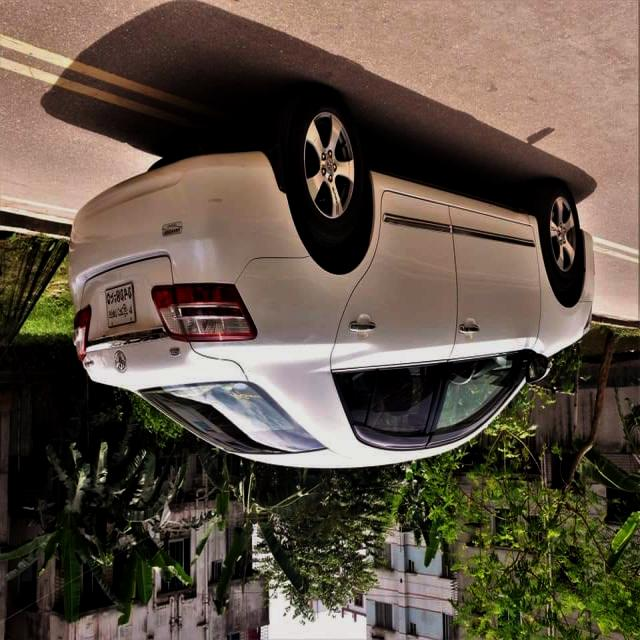white: (62, 160, 621, 470)
